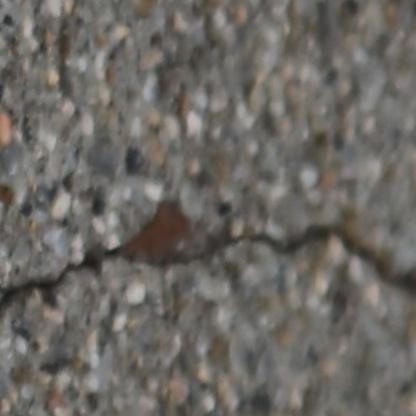Cracks: (0, 196, 416, 321)
